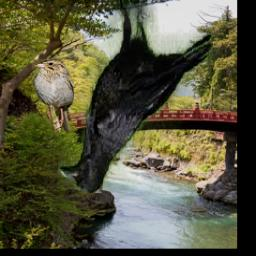Crow: (59, 0, 214, 194)
Sparrow: (33, 58, 75, 134)
